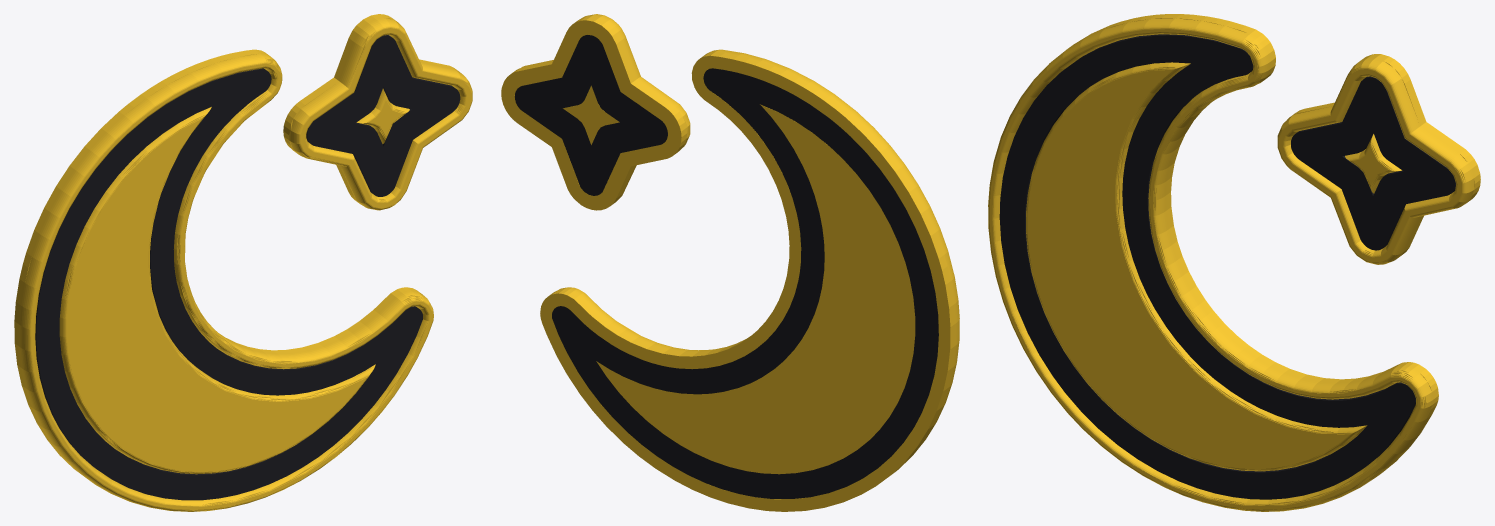
The model's file is night_owl_t3.glb.
3 views of the same model, side by side, from view 1: azimuth 30°, elevation 25°; view 2: azimuth 150°, elevation 25°; view 3: azimuth 330°, elevation 25° (orthographic). The views are drawn at different scales.
Visible parts, largest first — view 1: mark, mark_channel; view 2: mark, mark_channel; view 3: mark, mark_channel.
Boxes of the visible parts, box(x1,y1,x2,y2) form: mark: box(14, 14, 472, 511); mark_channel: box(35, 35, 460, 500); mark: box(501, 14, 959, 511); mark_channel: box(514, 35, 938, 498); mark: box(988, 14, 1480, 511); mark_channel: box(999, 34, 1455, 499).
Size of the model in its own units: 0.4982 by 0.4756 by 0.024.
